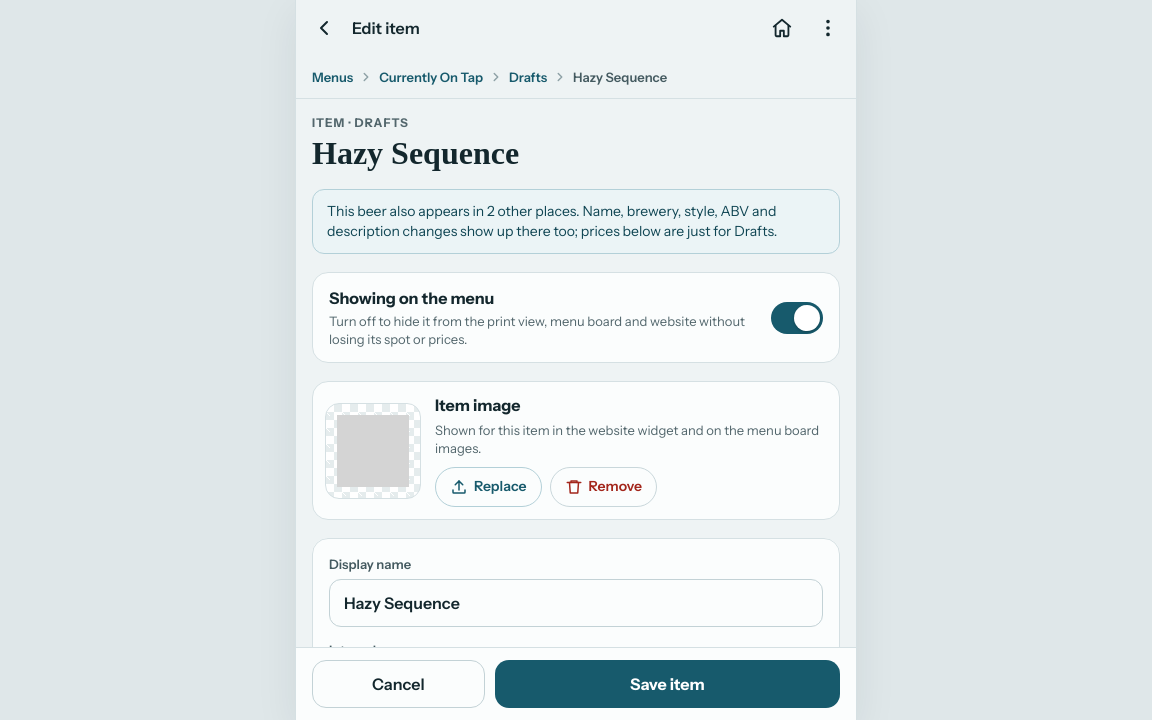
ItemEditorPage: existing item › shows the item's image and removes it straight away after confirming
Check: the text "website widget and on the menu board" is shown, box [435,422,819,456]
Type "!" into the field labelled "Display name" at x=576, y=603, box [329,579,823,627]
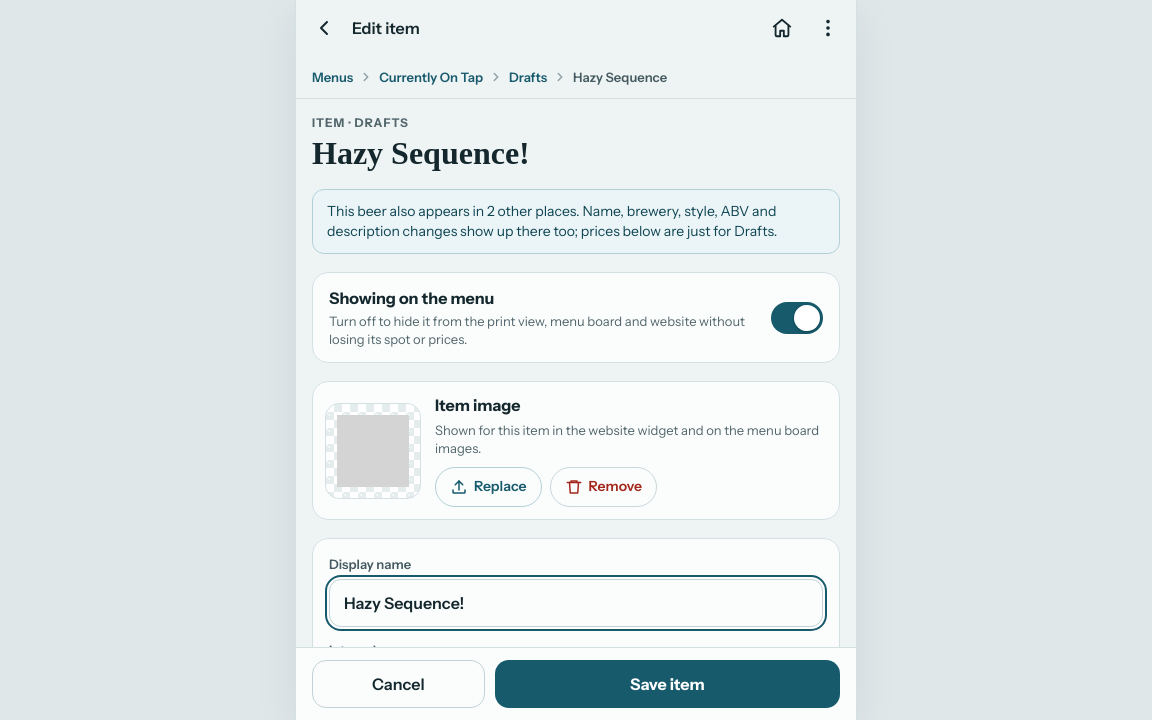
Click the button "Remove" at x=603, y=487, box [550,467,657,507]
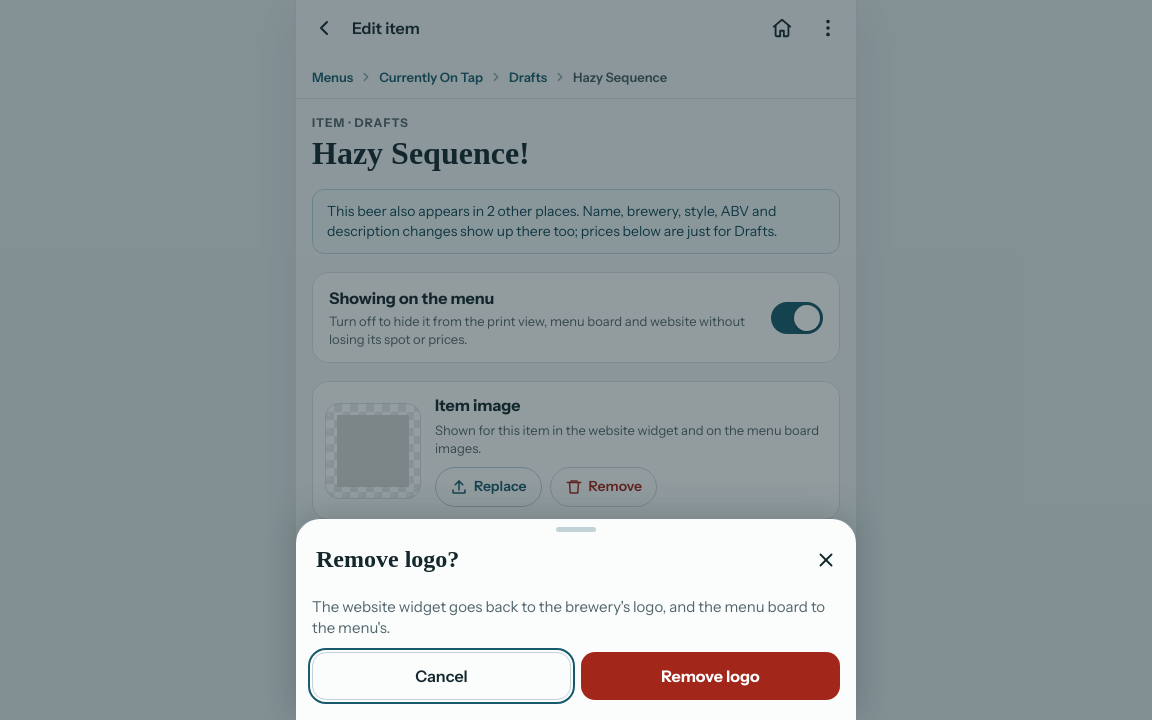
Check: the dialog "Remove logo?" shows "The website widget goes back to the brewery's logo, and the menu board to the menu's.", box [312,597,825,637]
Click the button "Remove logo" at x=710, y=676, box [581,652,840,700]
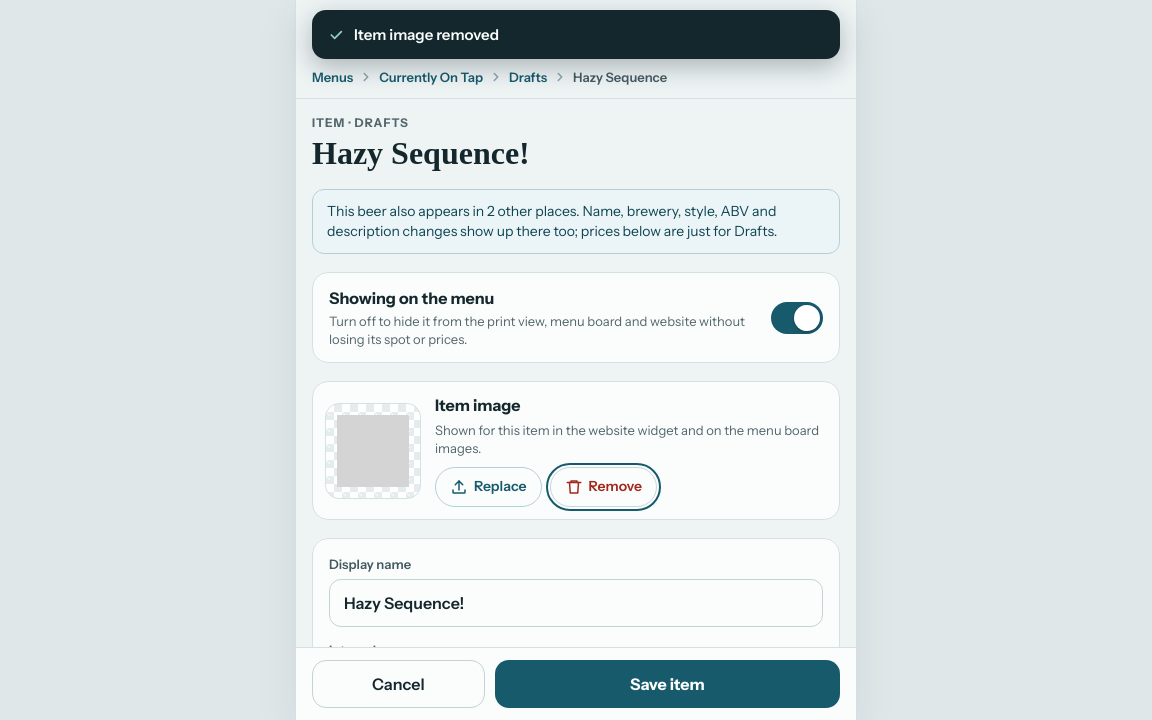
Check: the field labelled "Display name" holds "Hazy Sequence!", box [329,579,823,627]
Check: the text "Item image removed" is shown, box [312,10,840,59]
